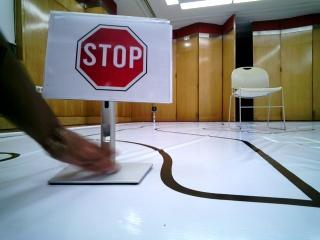stop: (63, 23, 165, 95)
